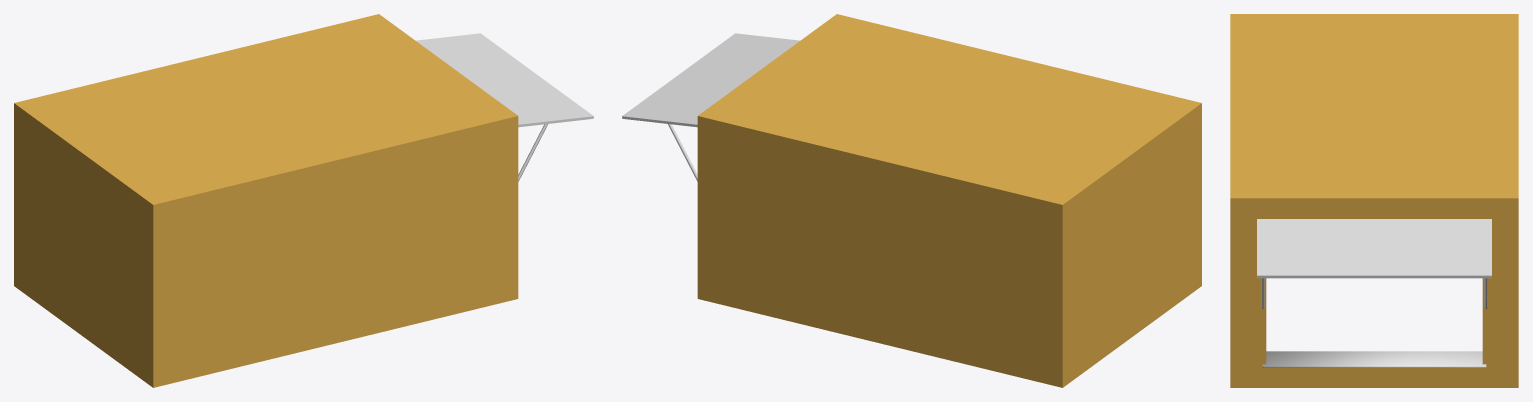
The model's file is model_booth.fbx.
The picture shows the model from 3 angles, left to right: view 1: azimuth 30°, elevation 25°; view 2: azimuth 150°, elevation 25°; view 3: azimuth 270°, elevation 25°; orthographic projection. The views are drawn at different scales.
Visible parts, largest first — view 1: Booth; view 2: Booth; view 3: Booth.
Boxes of the visible parts, bbox=[...] form: Booth: bbox=[14, 14, 593, 387]; Booth: bbox=[622, 14, 1201, 387]; Booth: bbox=[1230, 14, 1518, 387].
Bounding box in the file's own units: 752 × 290 × 400.
